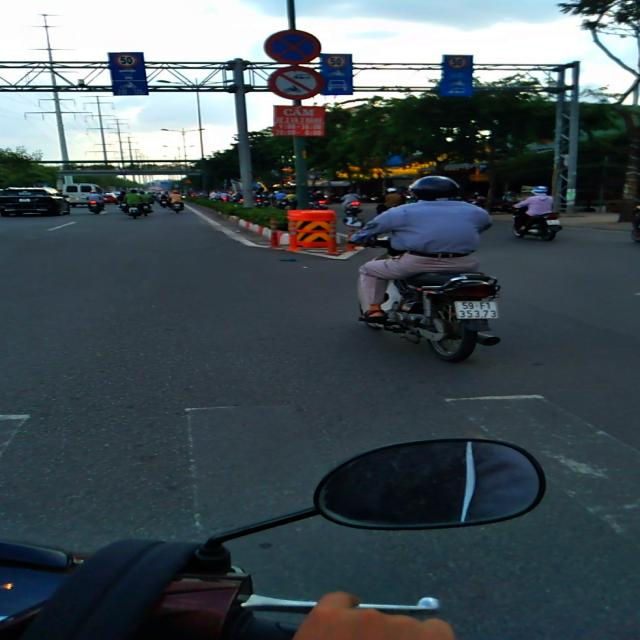Cam con lai: (267, 66, 324, 100)
Cam dung va do: (264, 30, 322, 66)
Toc do toi da: (115, 54, 139, 68), (325, 55, 346, 68), (447, 56, 468, 69)
